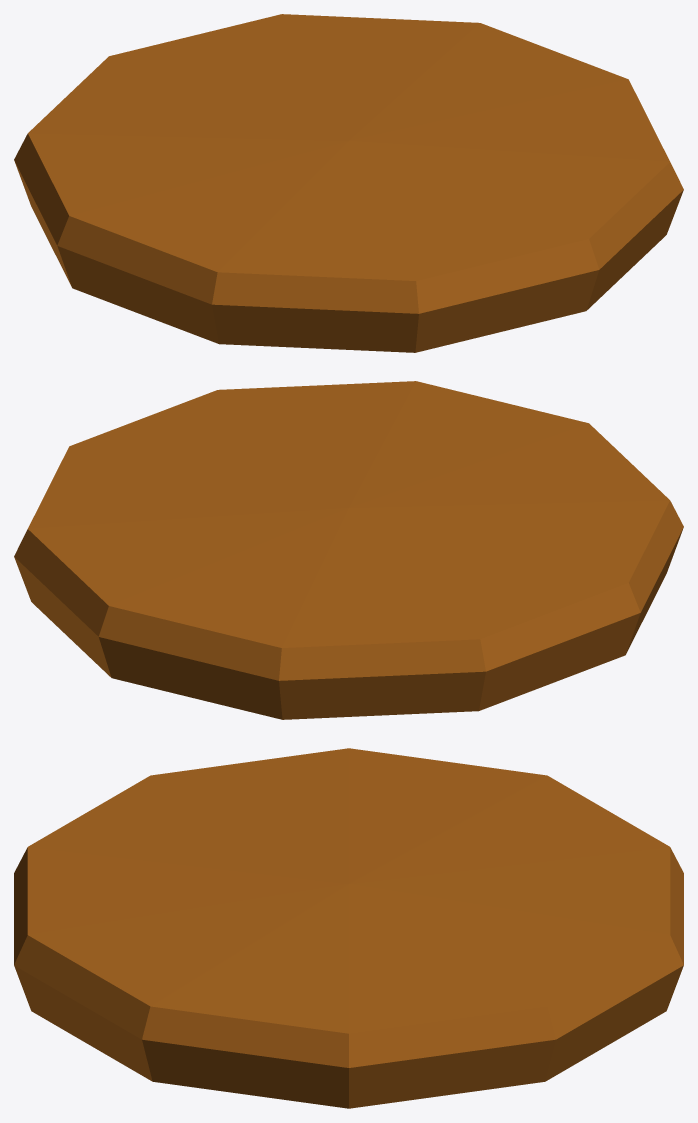
Rendered from other_bun_down.FBX.
The picture shows the model from 3 angles, top to bottom: view 1: azimuth 30°, elevation 25°; view 2: azimuth 150°, elevation 25°; view 3: azimuth 270°, elevation 25°; orthographic projection. The views are drawn at different scales.
Visible parts, largest first — view 1: other_bun_down; view 2: other_bun_down; view 3: other_bun_down.
Boxes of the visible parts, <box> form: other_bun_down: <box>14,14,683,352</box>; other_bun_down: <box>14,381,683,719</box>; other_bun_down: <box>14,748,683,1108</box>.
Size of the model in its own units: 197 by 34.87 by 187.
